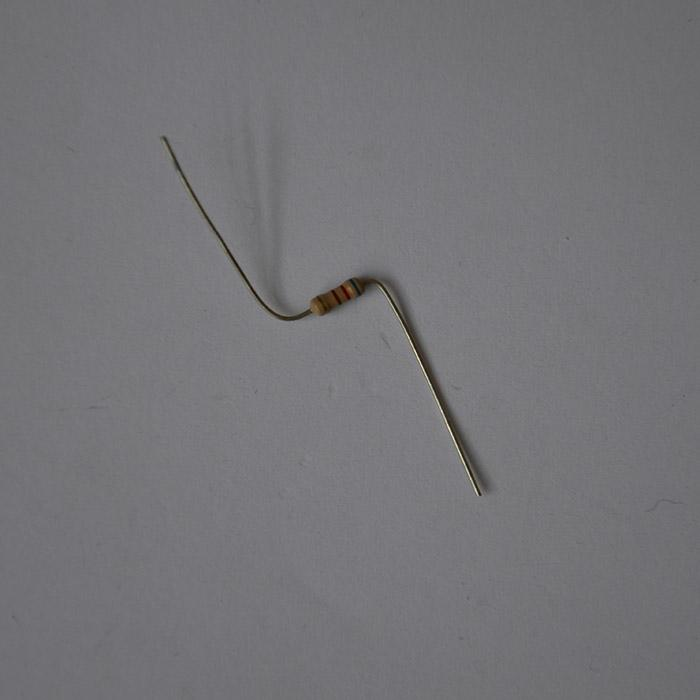resistor: (309, 276, 364, 316)
